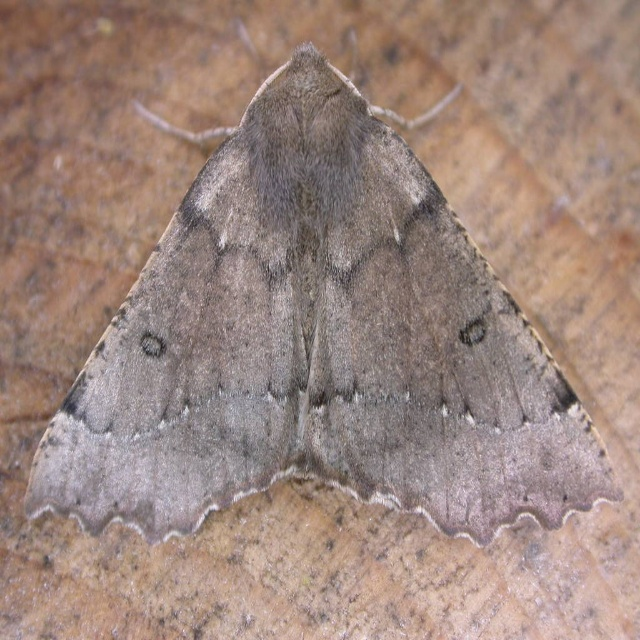Moths and butterflies: (22, 19, 626, 552)
